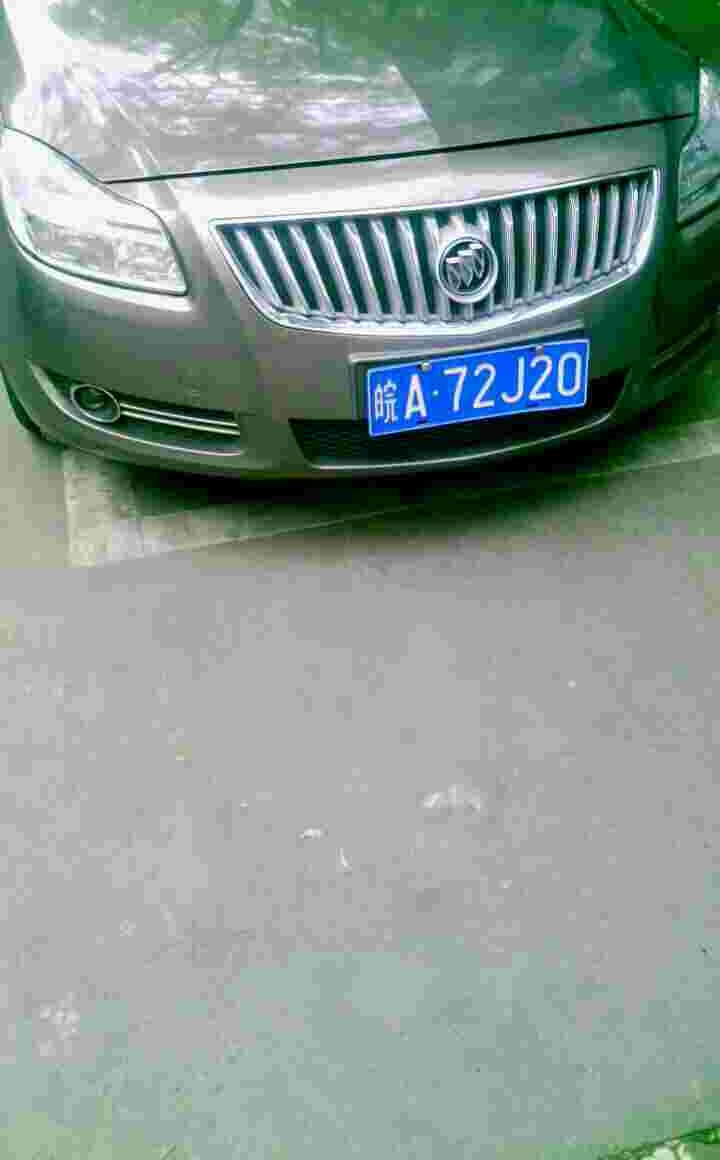license_plate: (357, 336, 592, 445)
